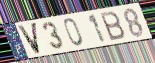0: (63, 17, 84, 48)
1: (89, 13, 108, 43)
3: (42, 21, 65, 50)
8: (123, 7, 145, 38)
B: (98, 10, 127, 42)
V: (16, 21, 41, 56)
